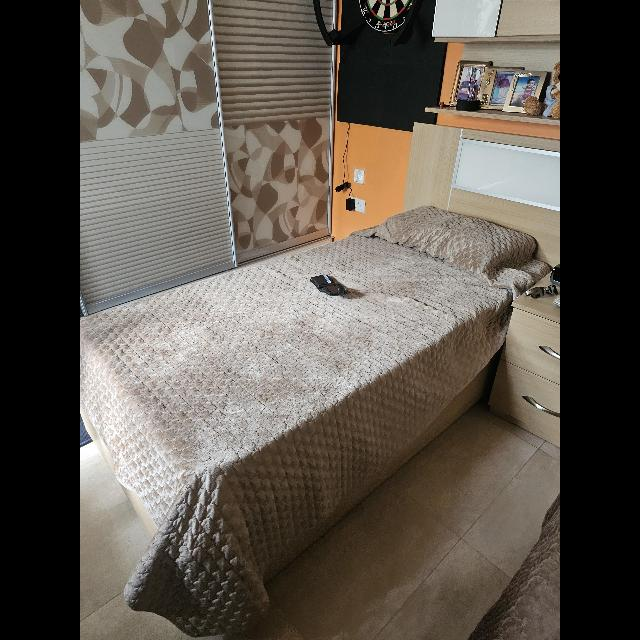Sunglasses: (526, 284, 558, 298)
Wallet: (309, 274, 349, 296)
